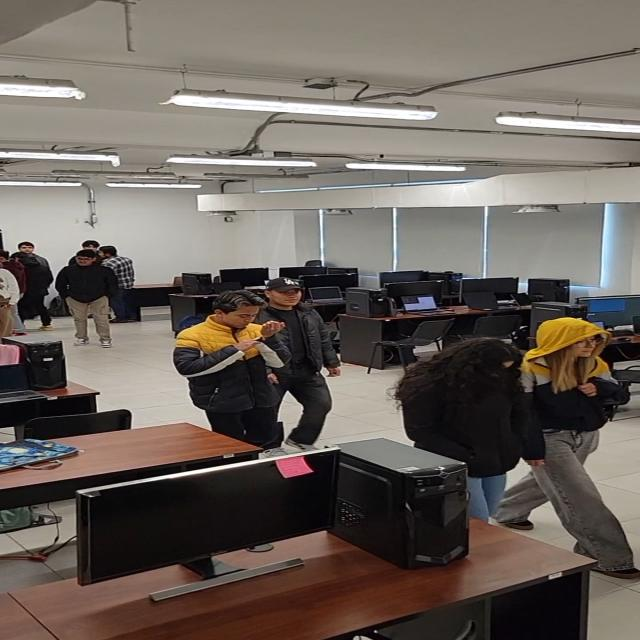Persona: (400, 335, 528, 502), (159, 288, 282, 440), (521, 310, 629, 483), (258, 270, 356, 428), (65, 252, 118, 350), (14, 240, 61, 324)
